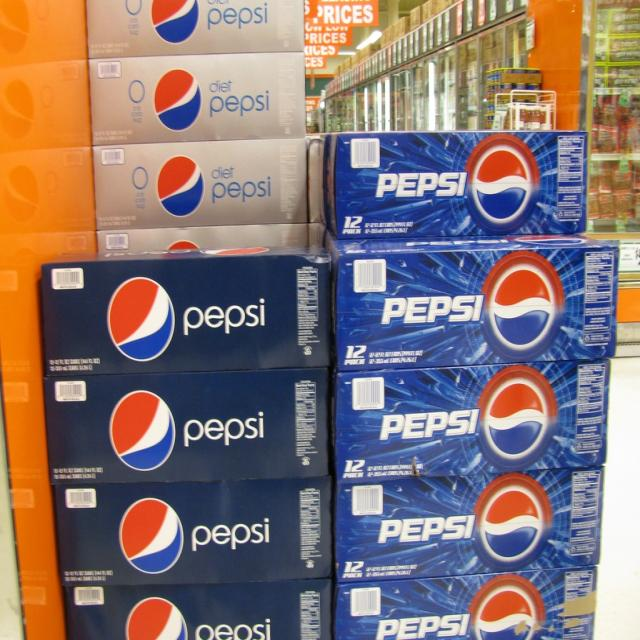pepsi: (484, 253, 562, 362), (466, 137, 542, 240), (477, 370, 556, 464), (107, 277, 178, 365), (116, 493, 187, 579), (108, 388, 178, 474), (487, 491, 541, 558), (157, 152, 209, 216), (154, 67, 204, 130), (128, 598, 190, 640), (148, 2, 202, 48), (479, 594, 531, 640)
